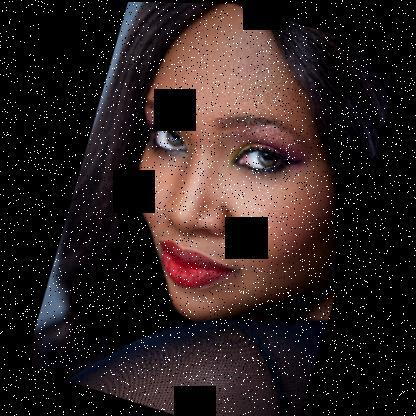Female: (84, 1, 403, 357)
